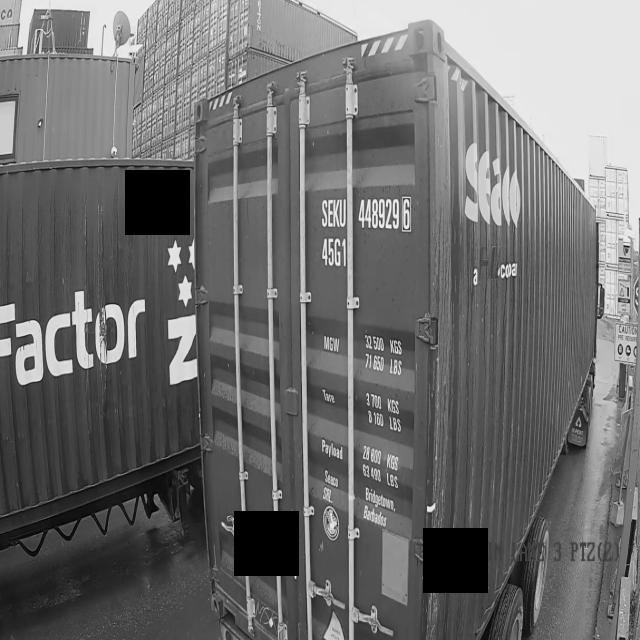container_company_logo: (459, 142, 532, 234)
container_number: (315, 194, 418, 273)
other_container_info: (318, 313, 414, 537)
truck_with_container: (189, 21, 600, 640)
